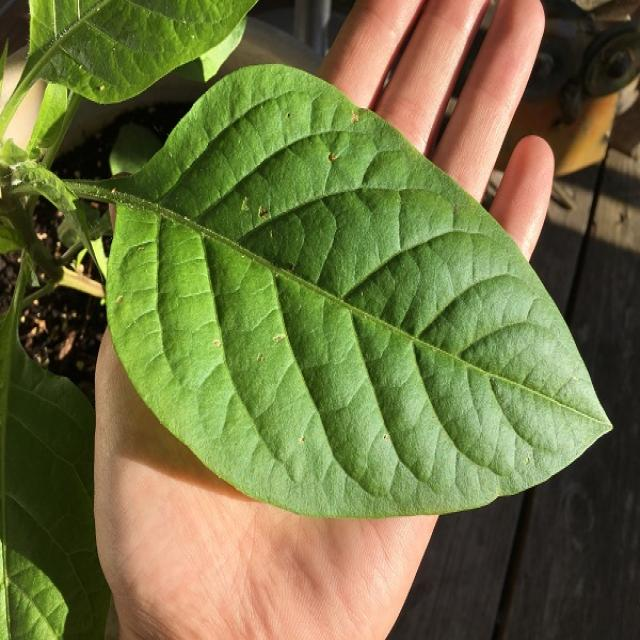Belladonna: (76, 9, 592, 580)
